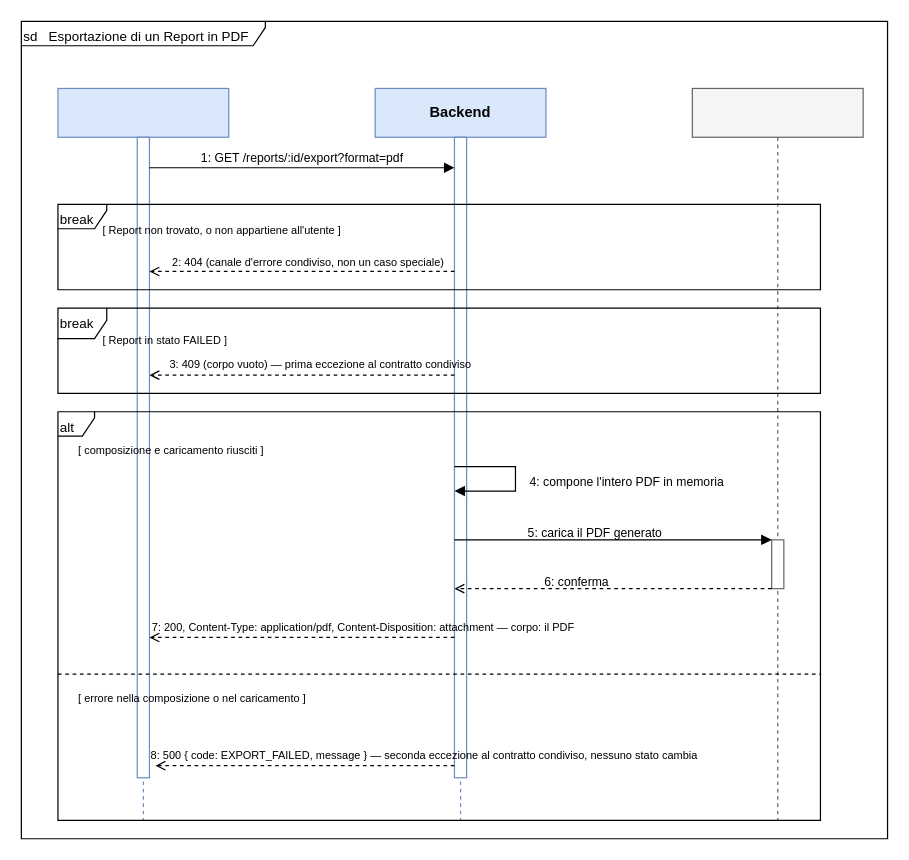
The diagram is 909 pixels wide and 860 high, and some of its shapes have lost their labels. The box of each missing label's shape, as (x1, y1, x2, y2) in pixels:
Frontend: (57, 87, 229, 820)
S3 (Artefatti): (691, 87, 863, 820)
